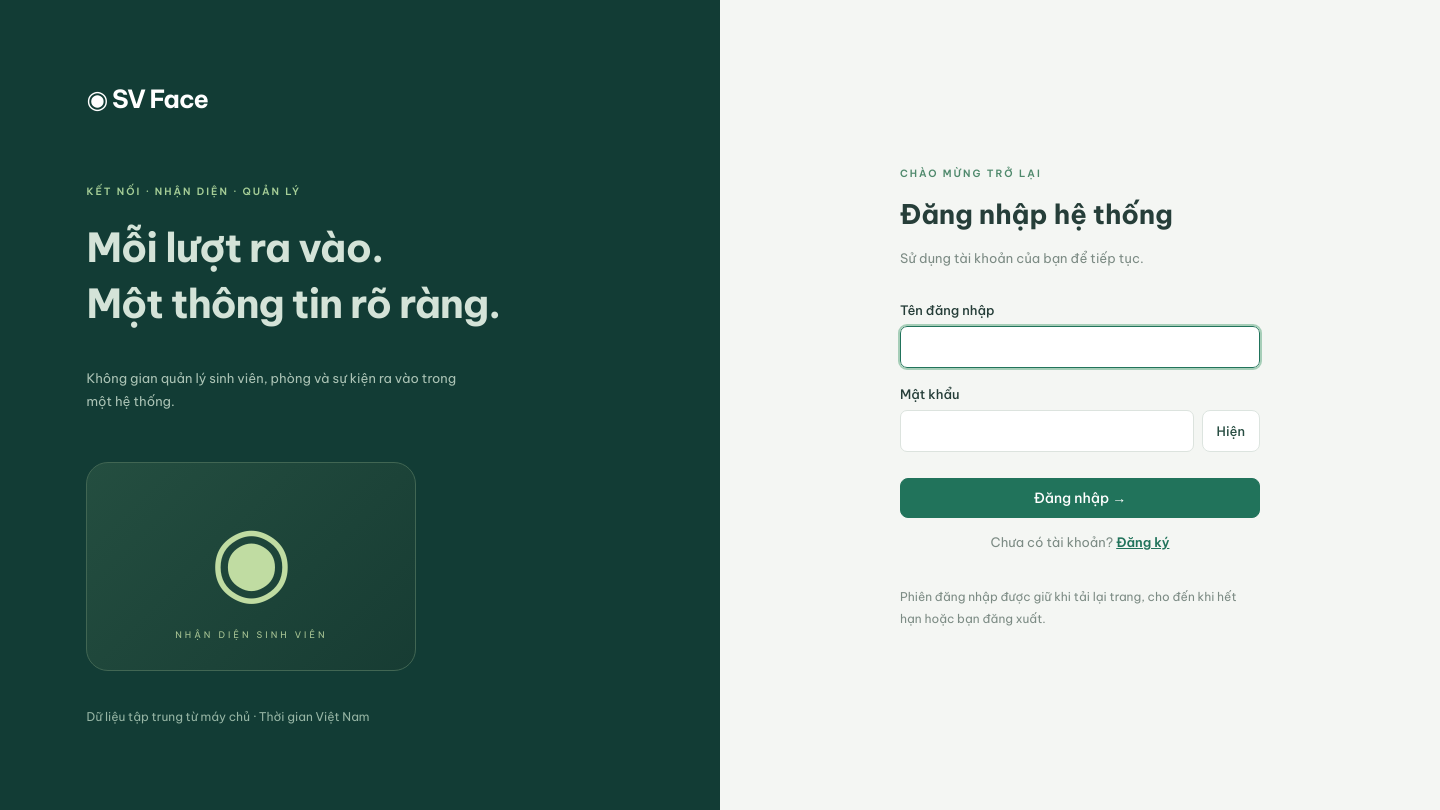
Test: Đăng ký và đăng nhập đơn giản › login sai 401 hiển thị lỗi, không gọi /auth/me hoặc mở trang dữ liệu
Type "test_only" into the field labelled "Tên đăng nhập" at (1080, 347), box [900,326,1260,368]
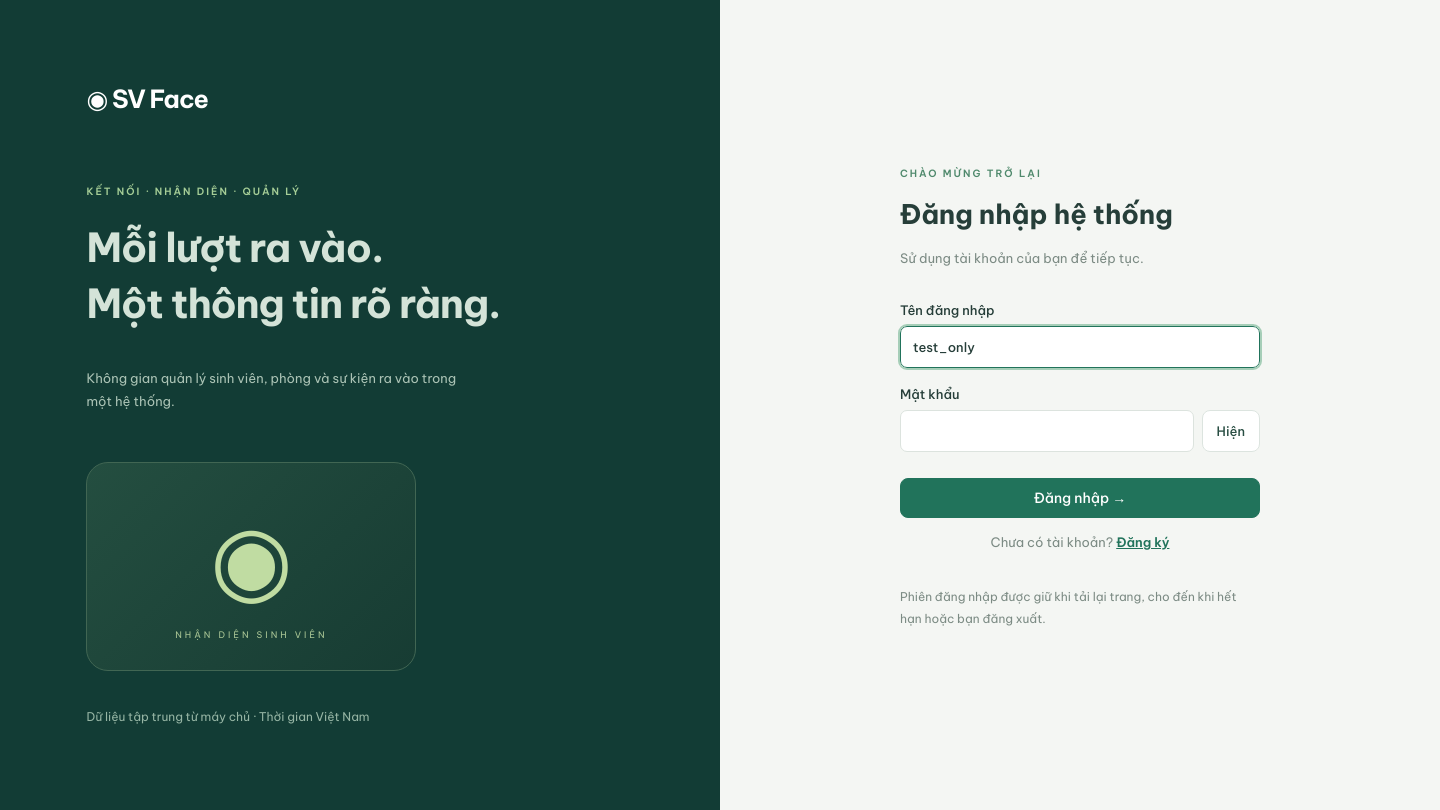
Type "test-only-password" into the password field labelled "Mật khẩu" at (1047, 431), box [900,410,1194,452]
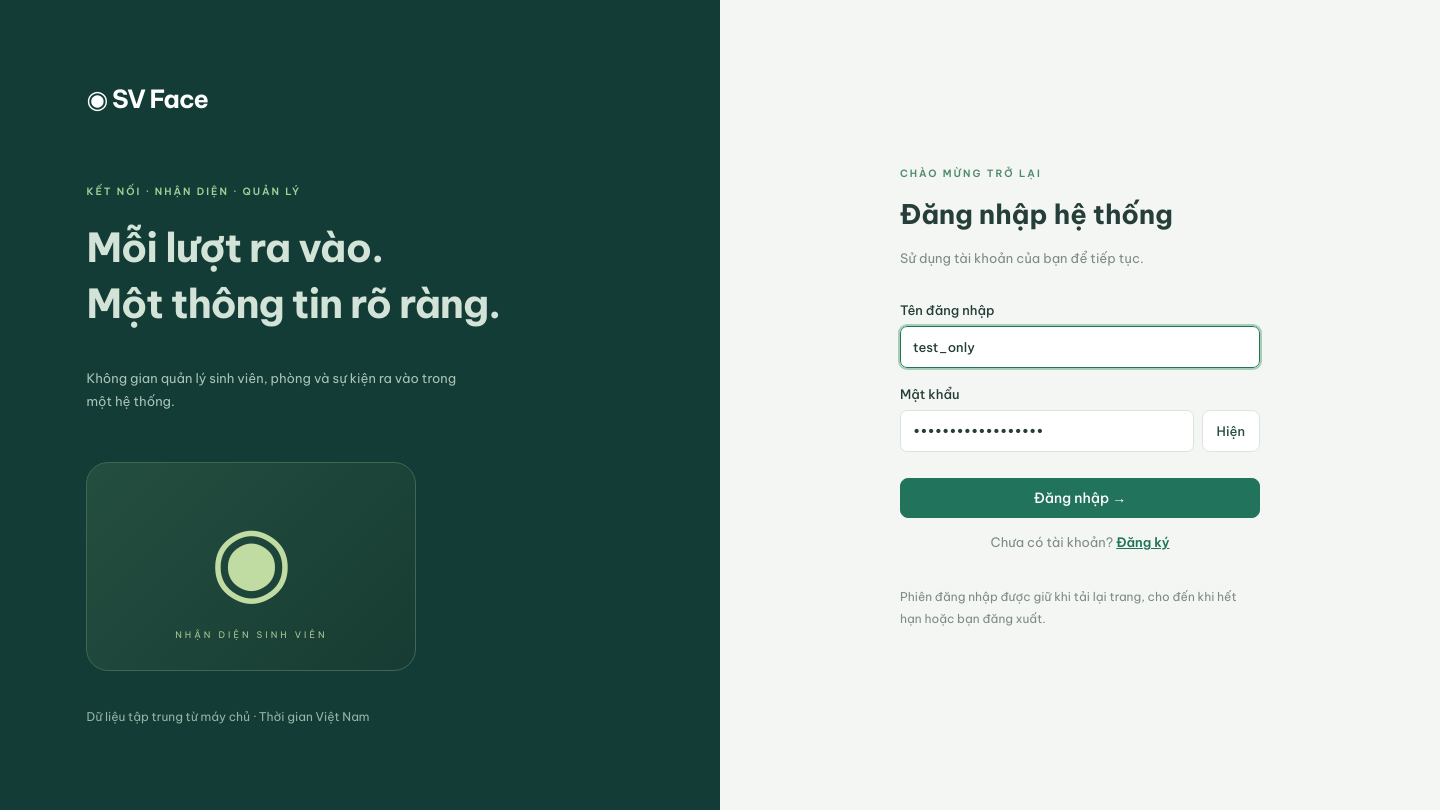
Click the button "Đăng nhập →" at (1080, 498), box [900,478,1260,518]
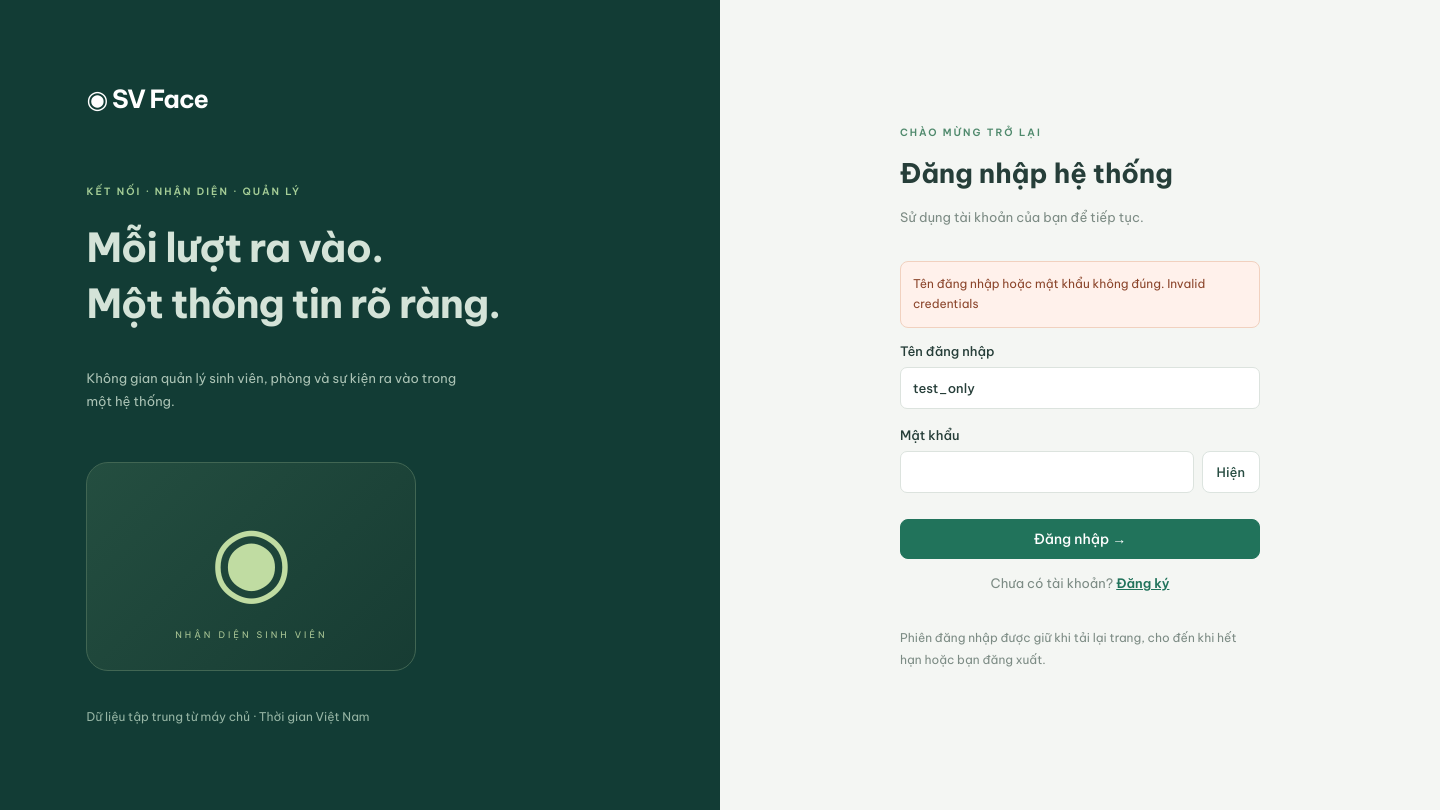
Now the text "Tên đăng nhập hoặc mật khẩu không đúng. Invalid credentials" is shown, box [900,261,1260,328]
